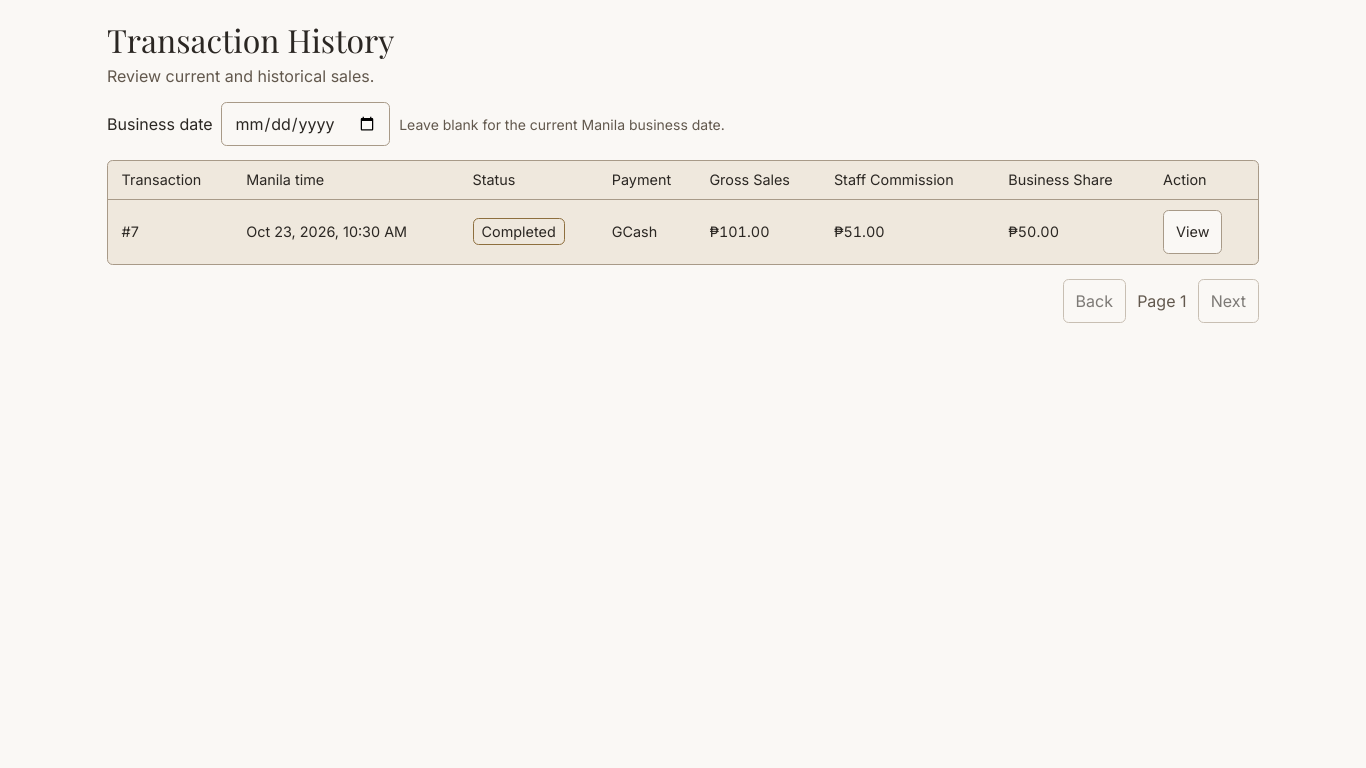
Test: shows Manual paper provenance and entry time to Owner only
The image size is (1366, 768).
Expected: the table is shown, [108,161,1258,264]
Click the button with aria-label "View transaction #7". click: (1193, 232)
box: [1163,210,1222,254]
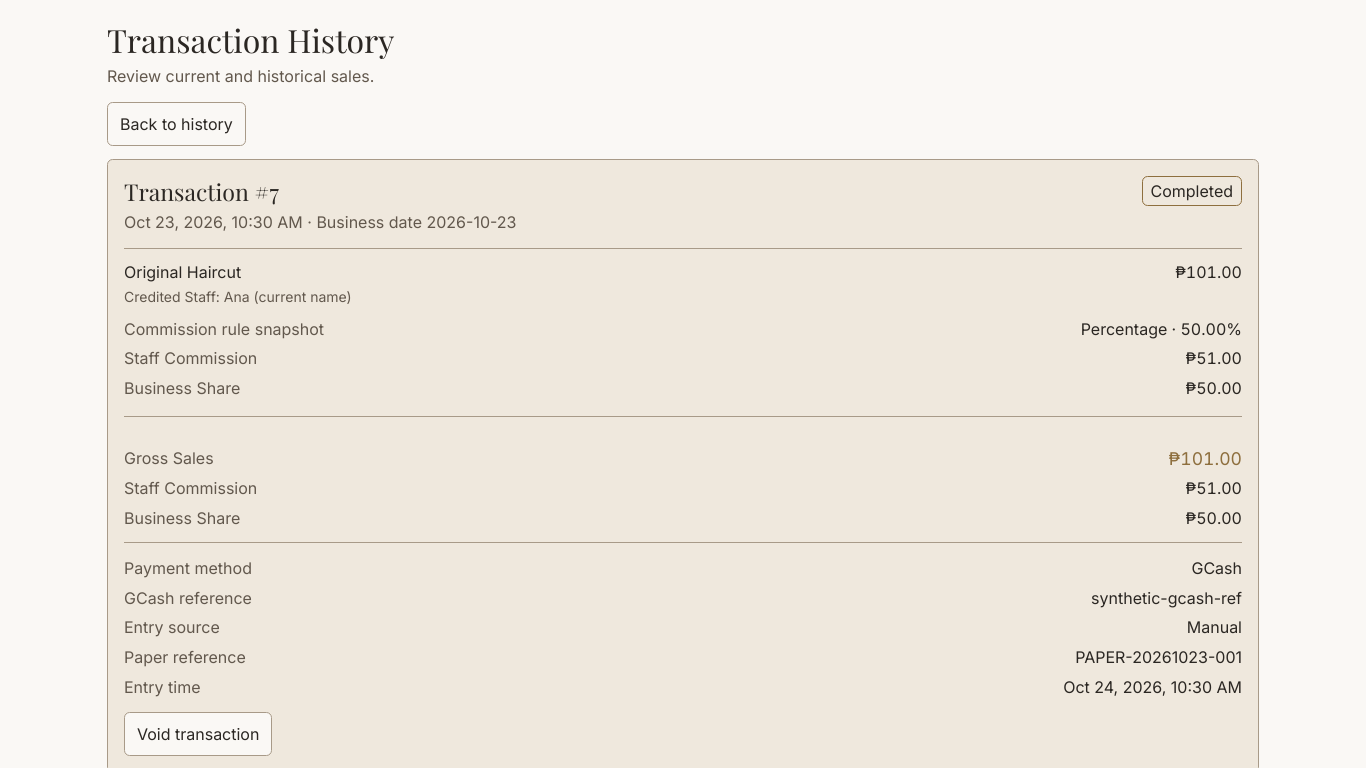
Expected: the heading "Transaction #7" is shown, [124,176,279,207]
Expected: the text "Manual" is shown, [1187,618,1242,638]
Expected: the text "PAPER-20261023-001" is shown, [1075,647,1242,667]
